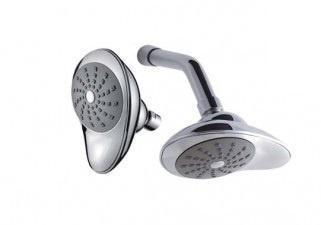Ducha: (69, 35, 293, 185)
